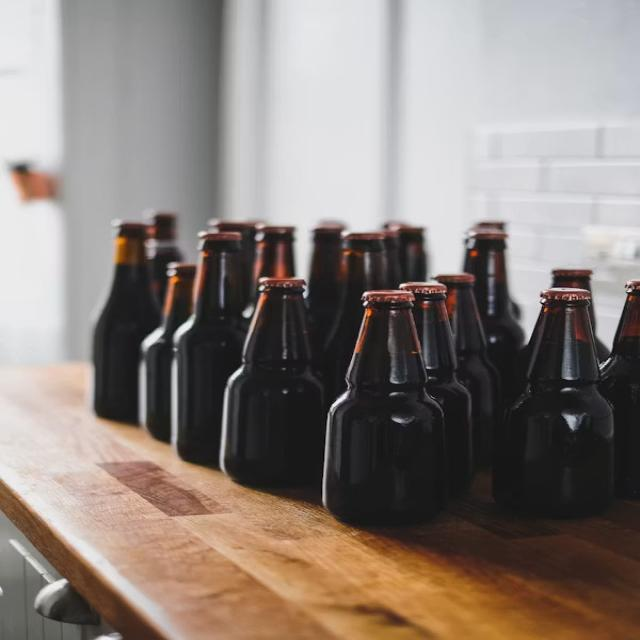Bottle: (324, 291, 446, 524), (493, 288, 613, 516), (220, 278, 325, 486), (172, 232, 246, 466), (400, 282, 473, 496), (92, 221, 161, 423), (436, 274, 502, 467), (324, 233, 388, 404), (466, 229, 523, 403), (140, 263, 195, 442), (600, 280, 639, 498), (308, 224, 344, 354), (245, 225, 295, 317), (208, 220, 262, 305), (144, 211, 183, 305), (518, 312, 545, 396), (392, 225, 427, 281), (588, 299, 610, 362), (383, 227, 403, 287), (463, 220, 506, 247), (382, 220, 407, 229)
